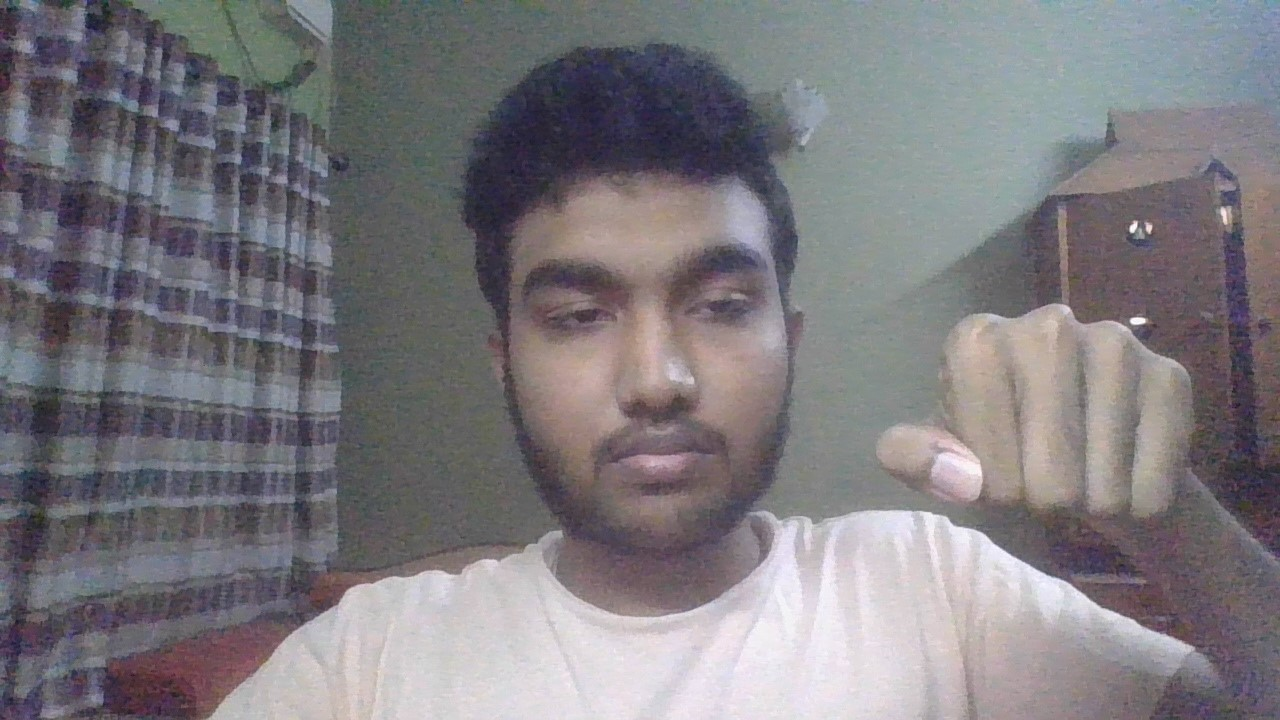Yes: (873, 299, 1211, 556)
